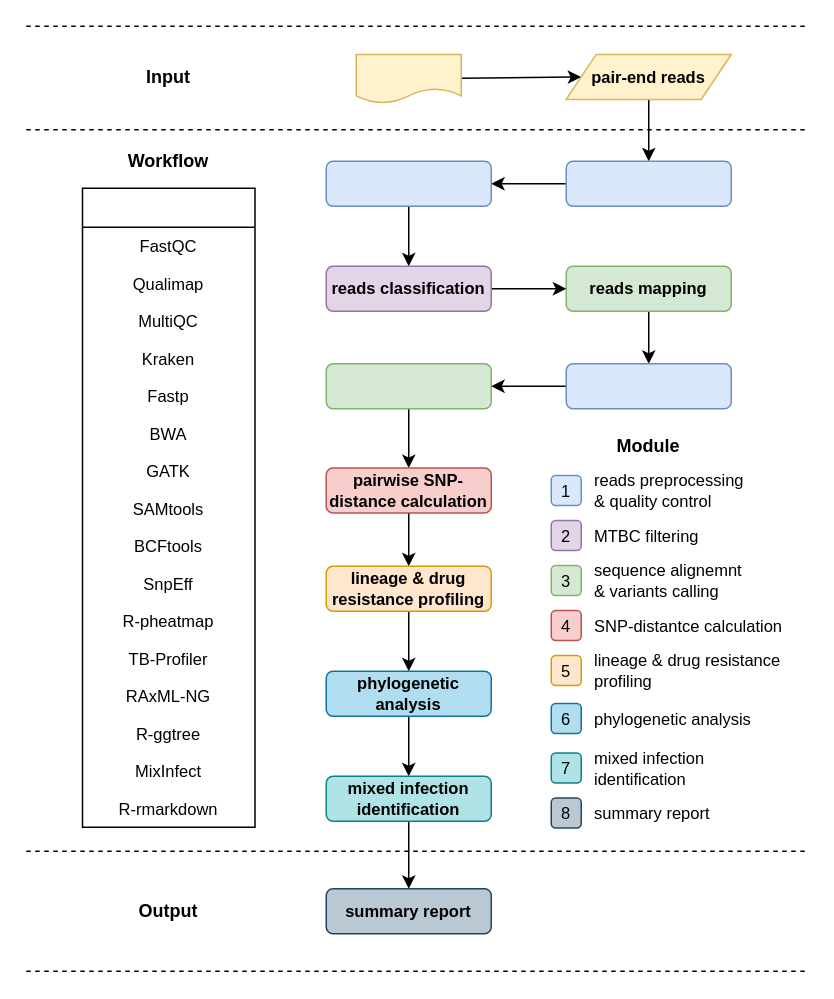
This 834x999 diagram has some shape labels left out. Here are the shapes that lost their labels. From the top down, the box of each, then its label:
(355, 53, 461, 103): config
(325, 160, 491, 206): reads preprocessing
(565, 160, 731, 206): reads QC
(325, 362, 491, 409): variants calling & filtering
(565, 362, 731, 409): alignment QC
(81, 187, 255, 827): Software
